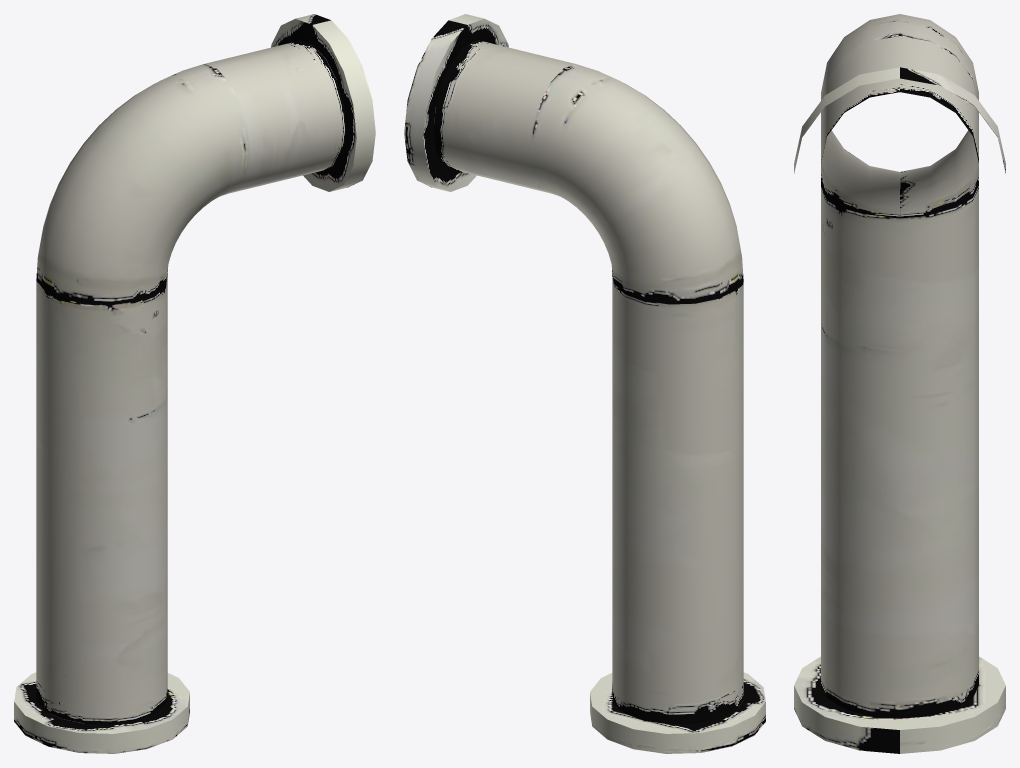
3 renders of one model, left to right at view 1: azimuth 30°, elevation 25°; view 2: azimuth 150°, elevation 25°; view 3: azimuth 270°, elevation 25°, orthographic. The views are drawn at different scales.
Parts seen in each view (by area): view 1: body0_model0_lod0_mesh0; view 2: body0_model0_lod0_mesh0; view 3: body0_model0_lod0_mesh0.
Part boxes in pixels (x1,y1,x2,y2): body0_model0_lod0_mesh0: [14, 14, 375, 753]; body0_model0_lod0_mesh0: [404, 14, 765, 753]; body0_model0_lod0_mesh0: [794, 14, 1005, 753].
Bounding box in the file's own units: 64.08 × 128 × 32.17.
Materials: 1 (1 with a texture image).
